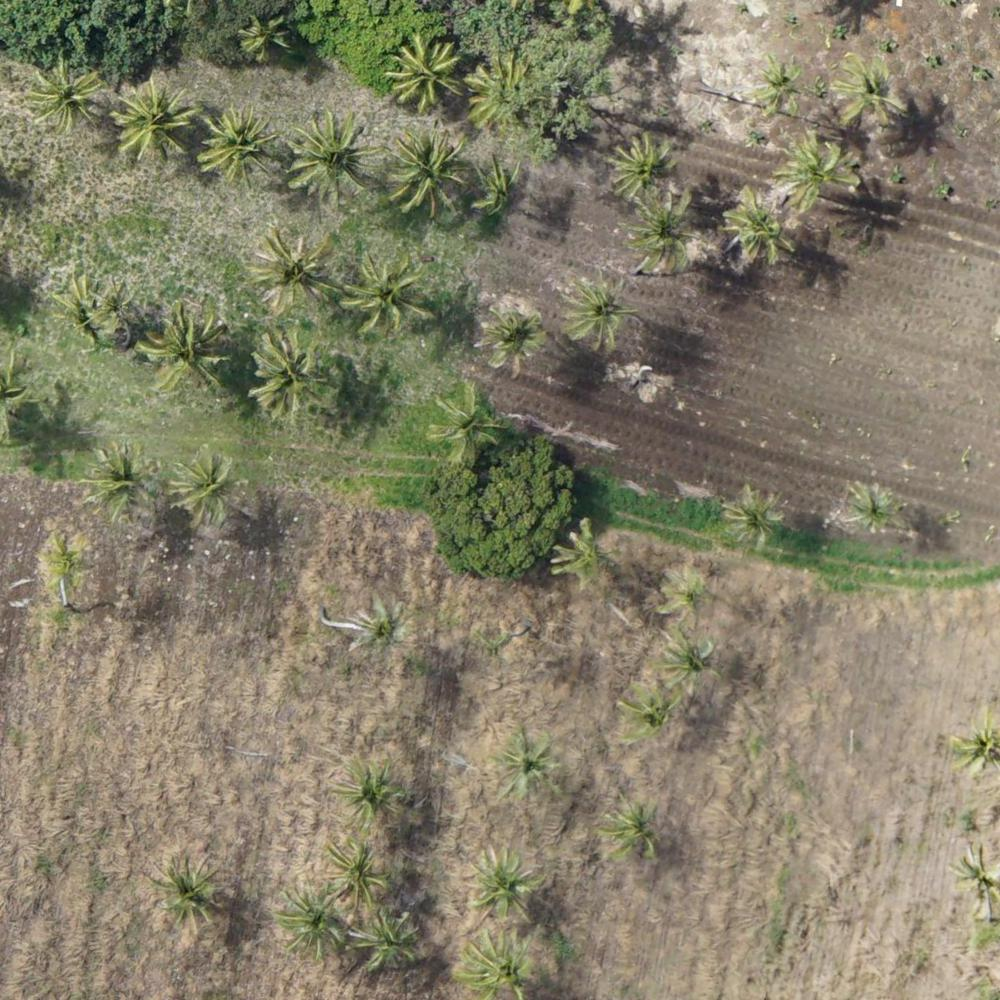Palm: (247, 328, 330, 422), (287, 113, 376, 195), (111, 76, 196, 161), (249, 223, 335, 306), (139, 311, 220, 397), (385, 131, 466, 215), (196, 101, 279, 181), (343, 255, 428, 331), (828, 52, 913, 126), (456, 846, 536, 922), (775, 135, 859, 206), (559, 273, 637, 349), (624, 197, 704, 271), (468, 51, 539, 132), (388, 33, 464, 107), (151, 851, 224, 927), (29, 58, 104, 131), (728, 186, 800, 262), (492, 729, 567, 801), (425, 384, 500, 455), (85, 447, 158, 518), (171, 448, 239, 523), (462, 928, 534, 997), (319, 834, 389, 904), (276, 890, 345, 960), (350, 905, 423, 969), (332, 755, 399, 823), (58, 273, 130, 335), (658, 626, 725, 692), (615, 134, 685, 197), (476, 299, 542, 365), (554, 518, 618, 586), (601, 793, 669, 857), (720, 481, 782, 545), (747, 51, 809, 112), (354, 597, 415, 659), (620, 678, 680, 740), (947, 843, 1000, 913), (657, 557, 712, 623), (843, 475, 904, 532), (37, 533, 97, 590), (946, 713, 1000, 775), (236, 9, 292, 64)
